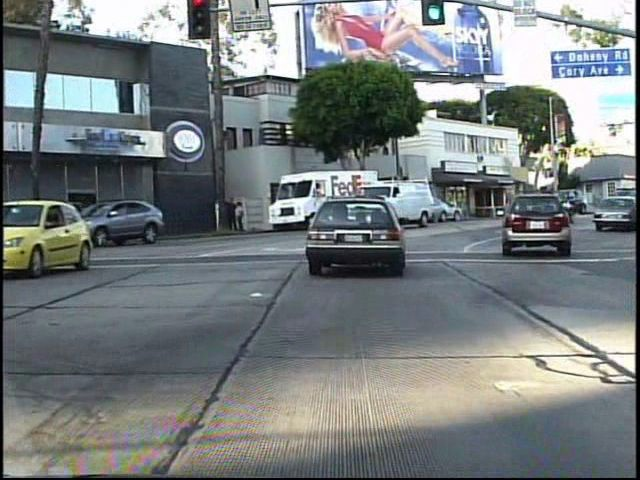person: (225, 194, 238, 234), (235, 200, 248, 234)
